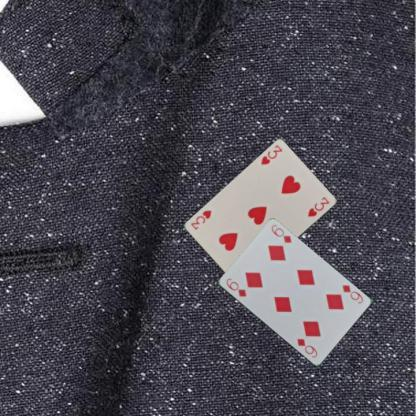3h: (258, 142, 284, 167)
6d: (339, 282, 364, 305), (223, 276, 247, 298)
